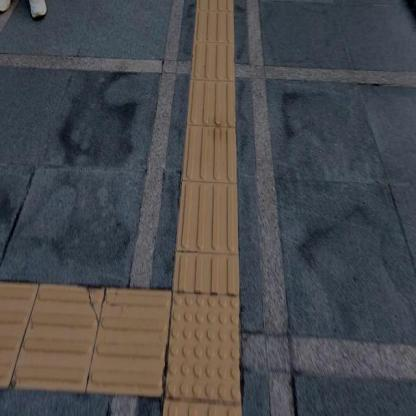podotacti: (129, 258, 273, 415), (0, 276, 161, 403), (173, 0, 244, 285), (162, 398, 242, 416)
